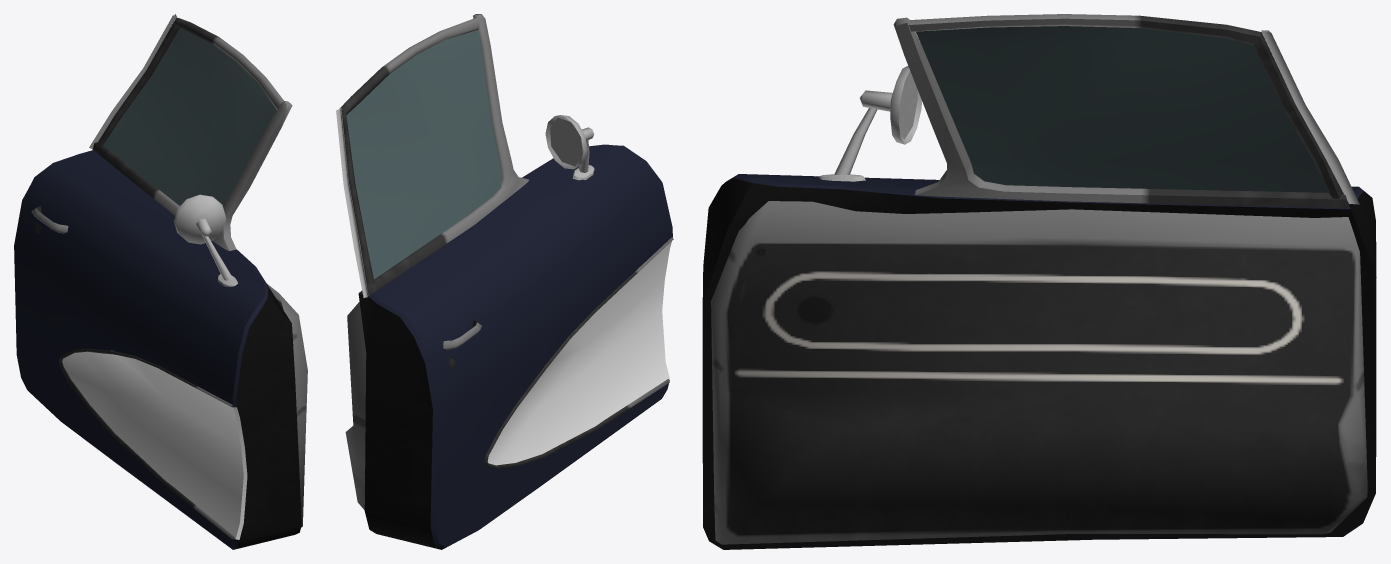
File: DoorL.obj
The picture shows the model from 3 angles, left to right: view 1: azimuth 30°, elevation 25°; view 2: azimuth 150°, elevation 25°; view 3: azimuth 270°, elevation 25°; orthographic projection. The views are drawn at different scales.
Parts seen in each view (by area): view 1: Door_L; view 2: Door_L; view 3: Door_L.
Boxes of the visible parts, x1=… form: Door_L: x1=14, y1=14, x2=307, y2=549; Door_L: x1=336, y1=14, x2=673, y2=549; Door_L: x1=702, y1=14, x2=1376, y2=549.
Size of the model in its own units: 7.99 by 21.99 by 23.21.
4 materials, 4 textured.
